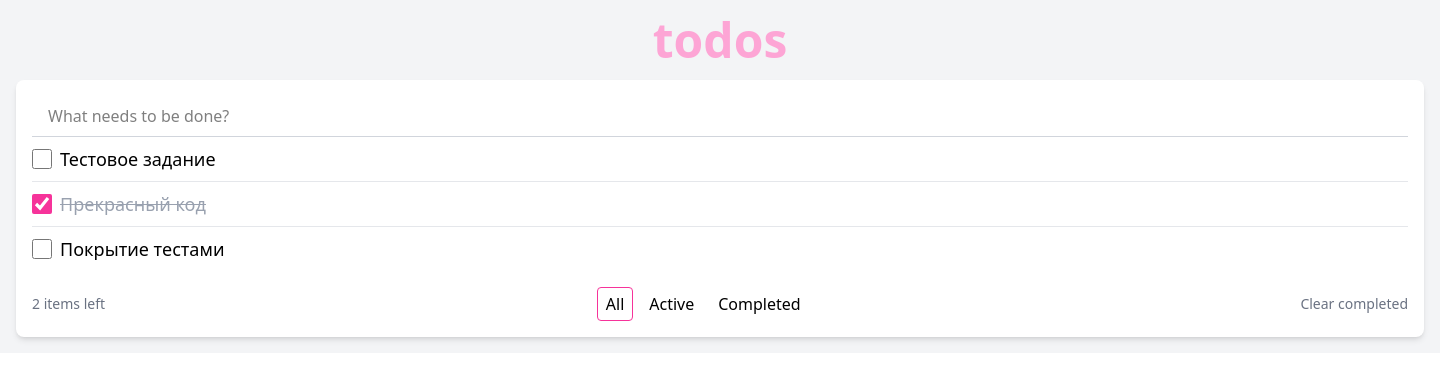
Test: ToDo App › clears completed todos
// Нажимаем кнопку "Clear completed"
Click the button "Clear completed": (1354, 304) x1=1300 y1=294 x2=1408 y2=314
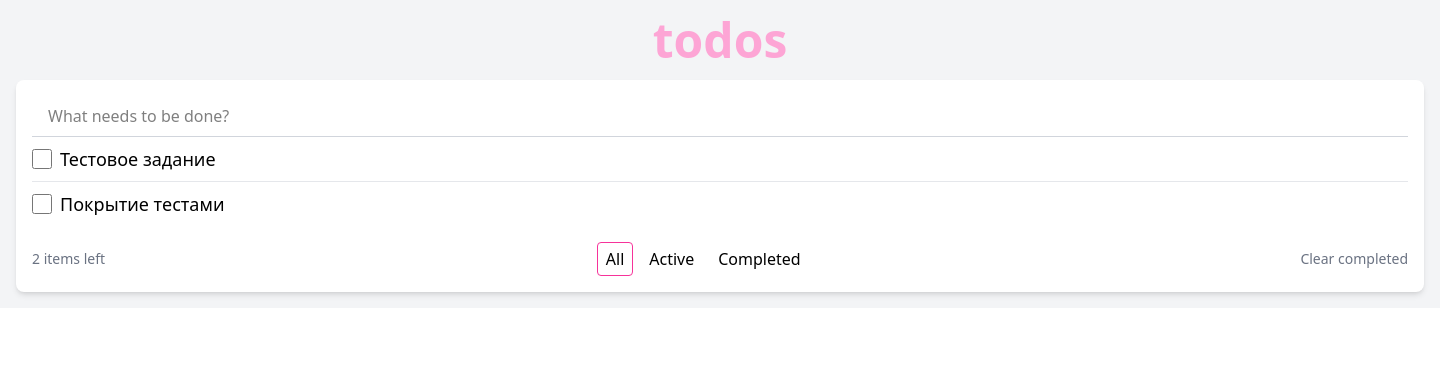
Check: the text "Прекрасный код" is gone
